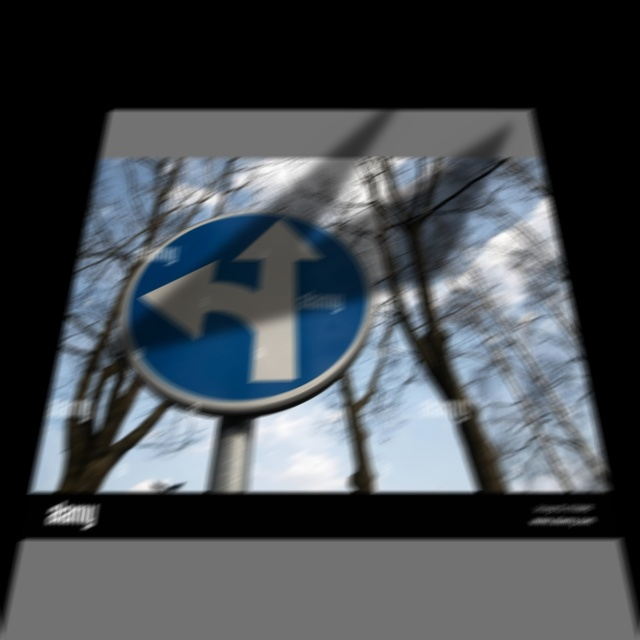Compulsory_Ahead_or_Turn_Left: (97, 207, 377, 410)
